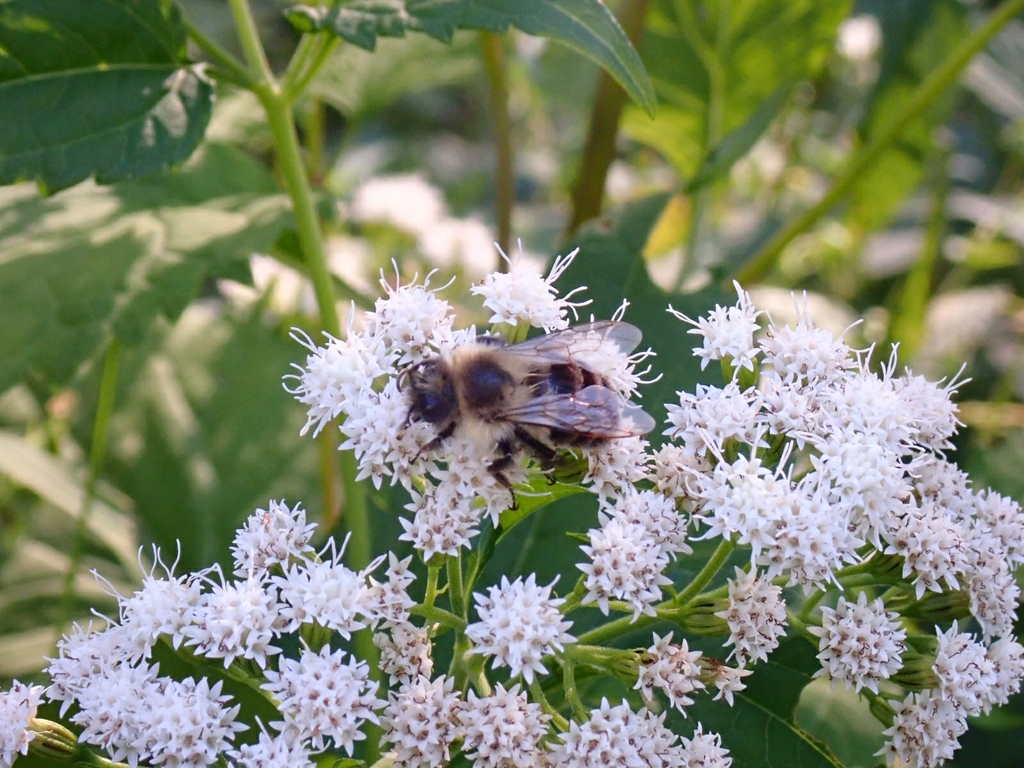bumblebee: (394, 318, 658, 515)
